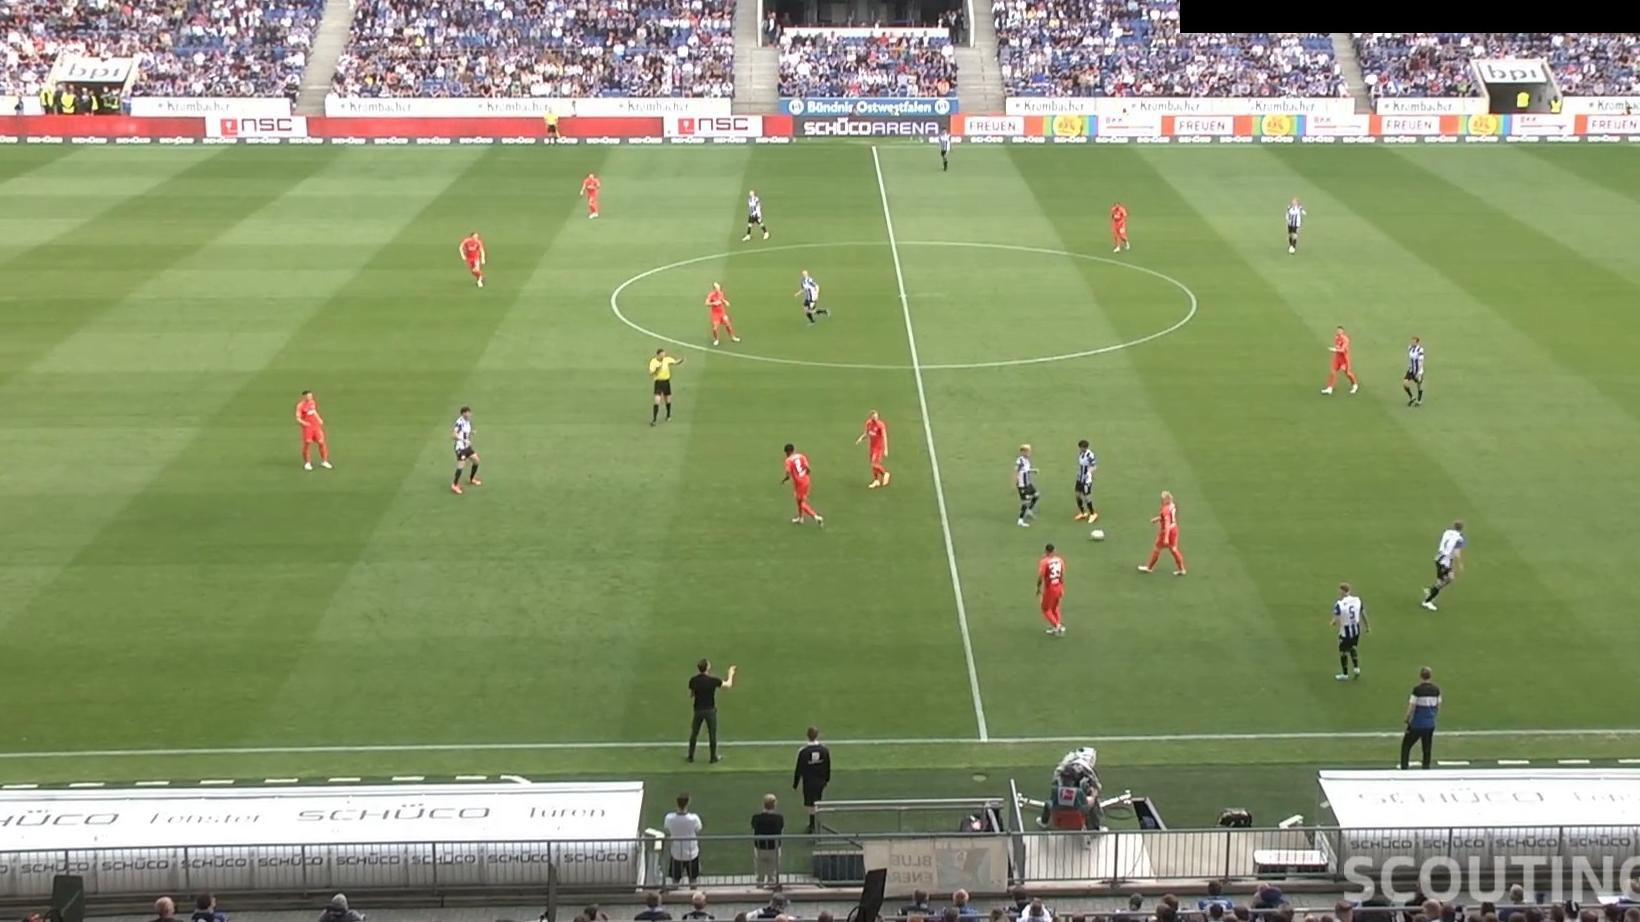ball: (1088, 528, 1105, 543)
